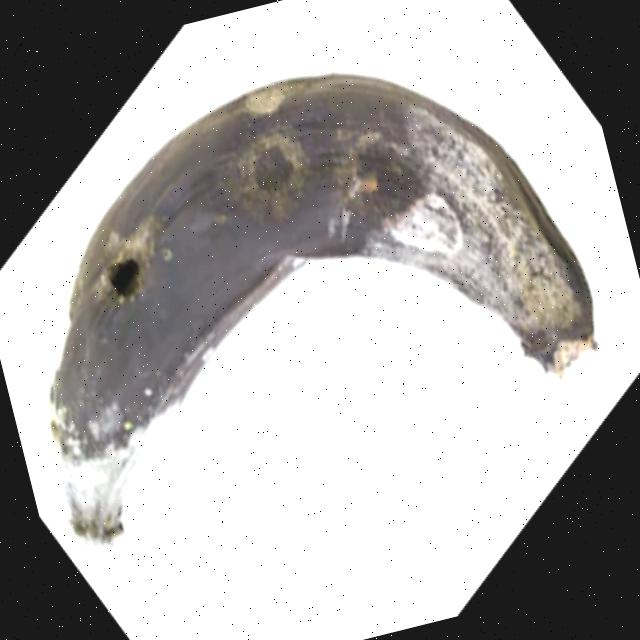Rotten: (0, 0, 637, 591)
